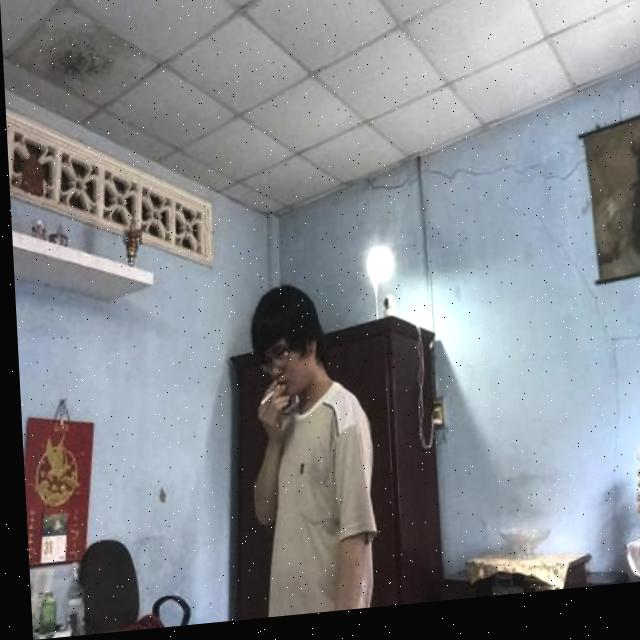cigarette: (254, 395, 270, 412)
